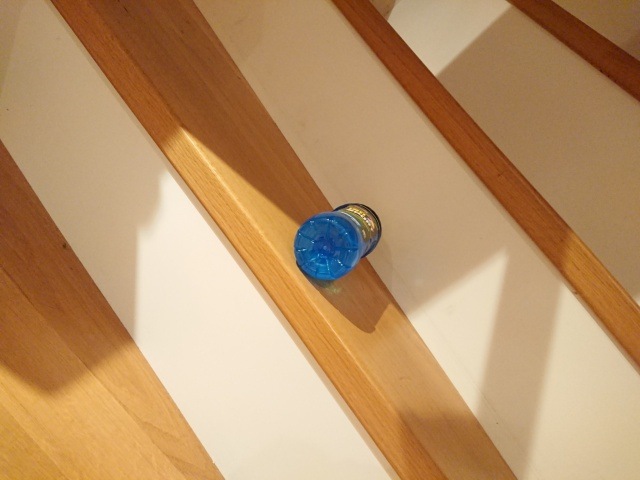Vindi Iso Sport Forest Strawberries 500mL: (291, 200, 383, 283)
